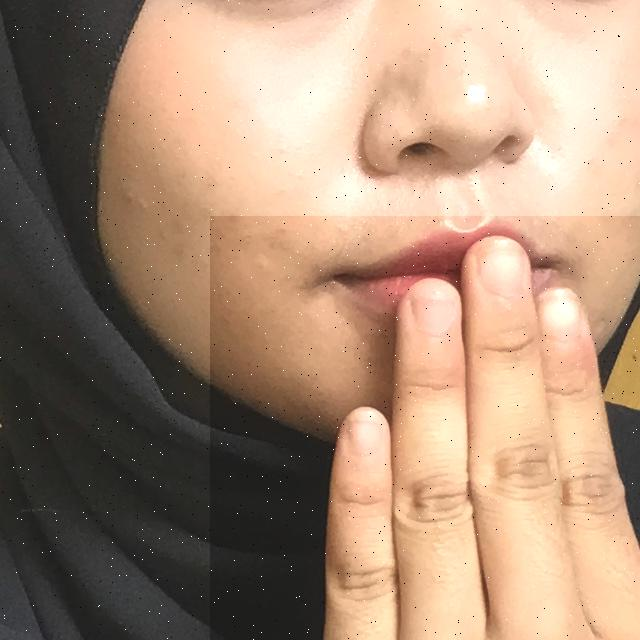ganteng: (210, 216, 640, 640)
